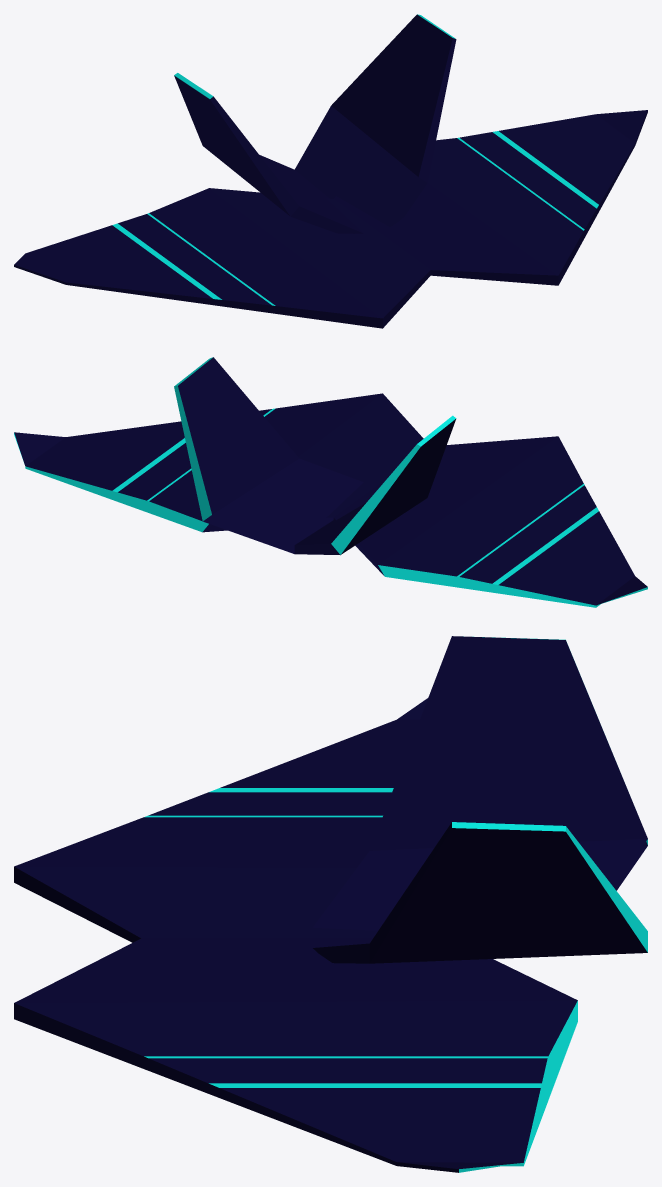
The model's file is 6_Wing.fbx.
The picture shows the model from 3 angles, top to bottom: view 1: azimuth 30°, elevation 25°; view 2: azimuth 150°, elevation 25°; view 3: azimuth 270°, elevation 25°; orthographic projection. The views are drawn at different scales.
Parts seen in each view (by area): view 1: Fighter6_wing; view 2: Fighter6_wing; view 3: Fighter6_wing.
Part boxes in pixels (bbox=[...]): Fighter6_wing: bbox=[14, 14, 647, 328]; Fighter6_wing: bbox=[14, 357, 647, 607]; Fighter6_wing: bbox=[14, 636, 647, 1172].
Size of the model in its own units: 2.43 by 0.5367 by 1.32.
1 material, 1 textured.
